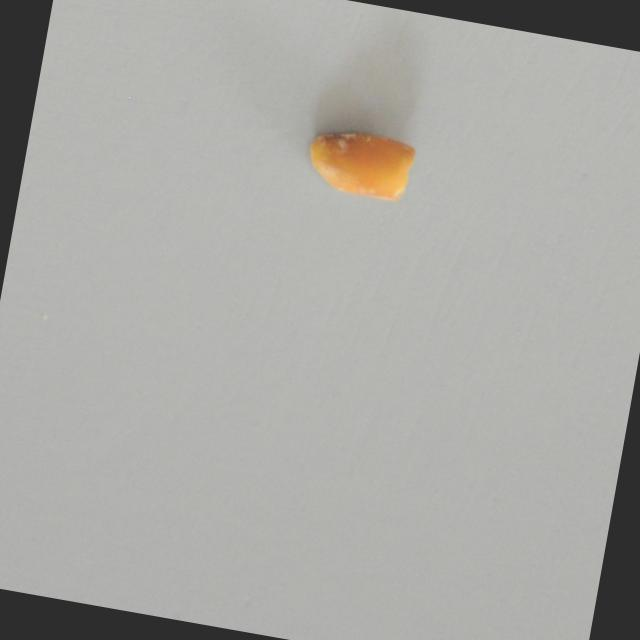dañado: (295, 115, 426, 209)
